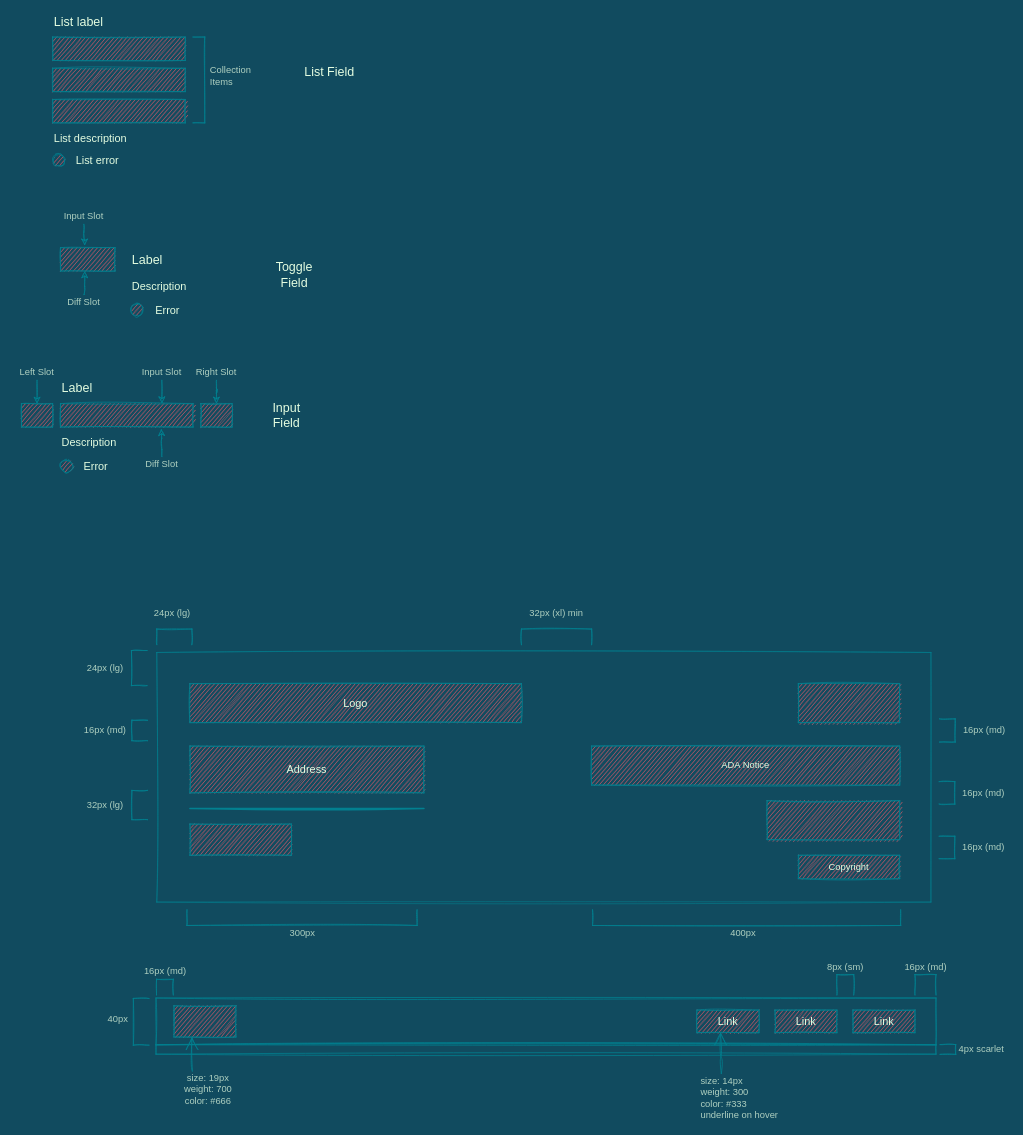
This 1023x1135 diagram has some shape labels left out. The box of each missing label's shape, as (x1, y1, x2, y2) in pixels:
Contact: (189, 823, 291, 855)
Links: (766, 800, 900, 840)
OSU.EDU: (173, 1005, 236, 1037)
Socials: (798, 683, 900, 723)
